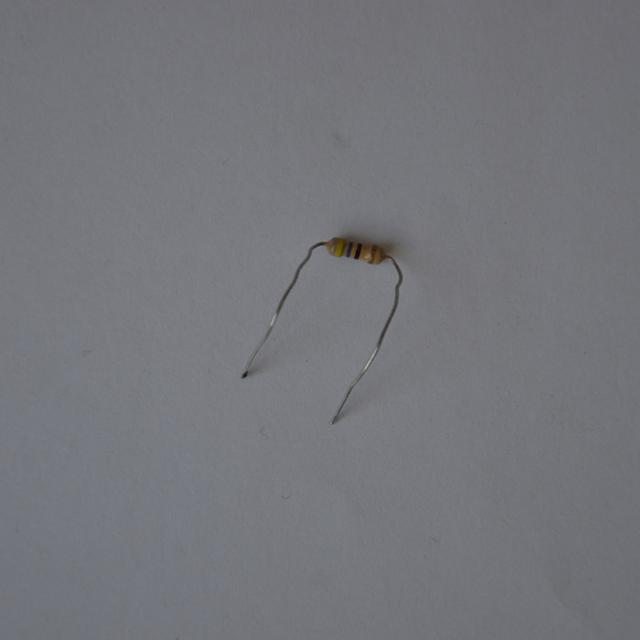brown: (354, 243, 363, 260)
gold: (369, 246, 377, 263)
resistor: (322, 232, 387, 270)
violet: (346, 242, 353, 257)
yellow: (334, 239, 344, 256)
